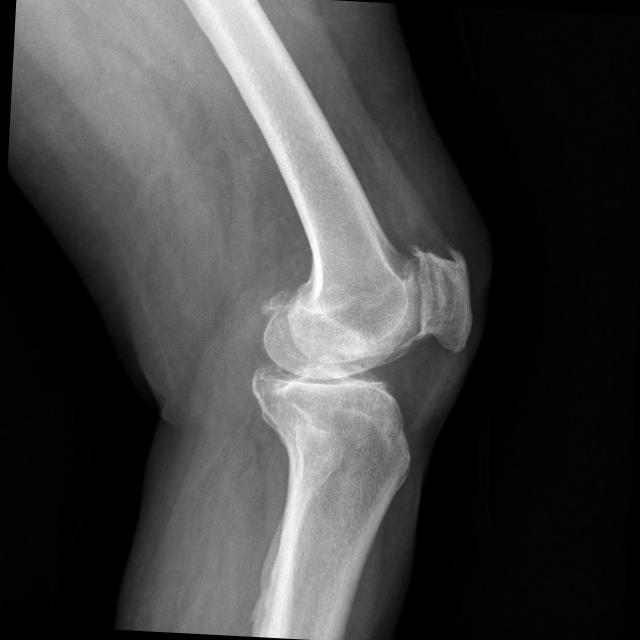Knee: (250, 231, 478, 461)
